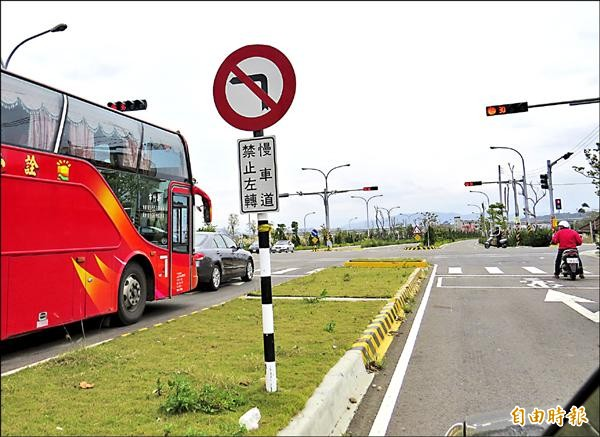No_left_turn: (212, 45, 297, 131)
